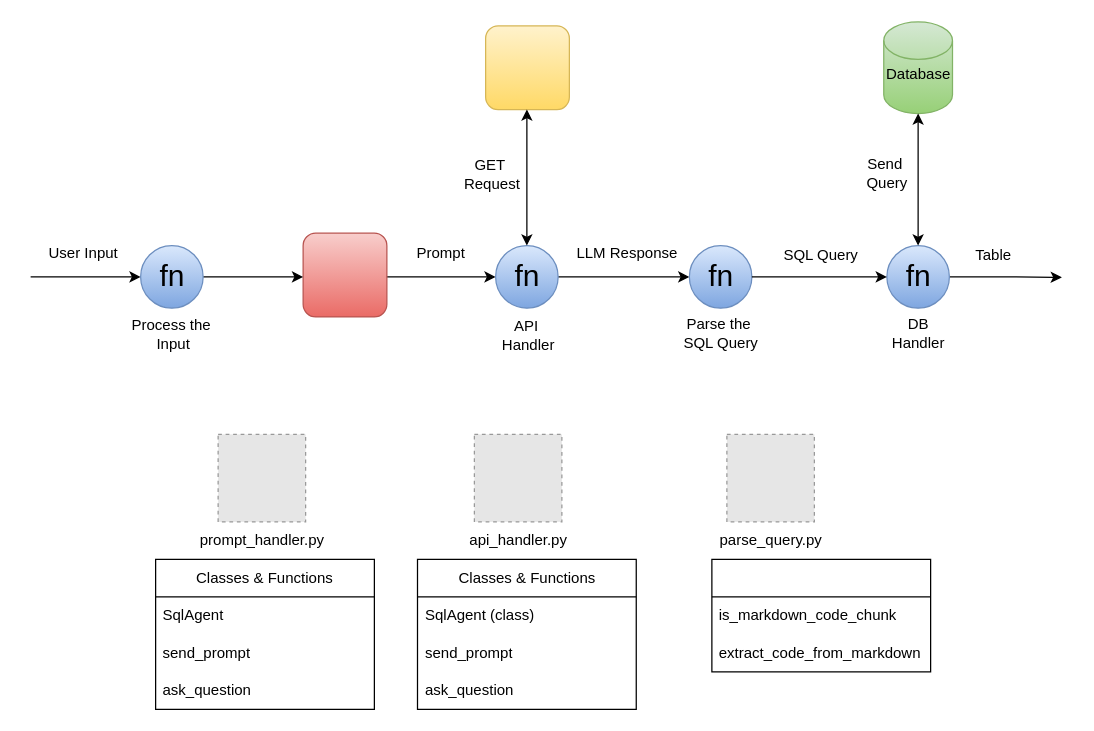
This 1094x731 diagram has some shape labels left out. Grey dashed boxes stand in for pictures. Each missing label, with the box of its shape:
Functions: (711, 558, 931, 672)
LLM API: (484, 25, 569, 110)
Prompt Template: (302, 232, 387, 317)
